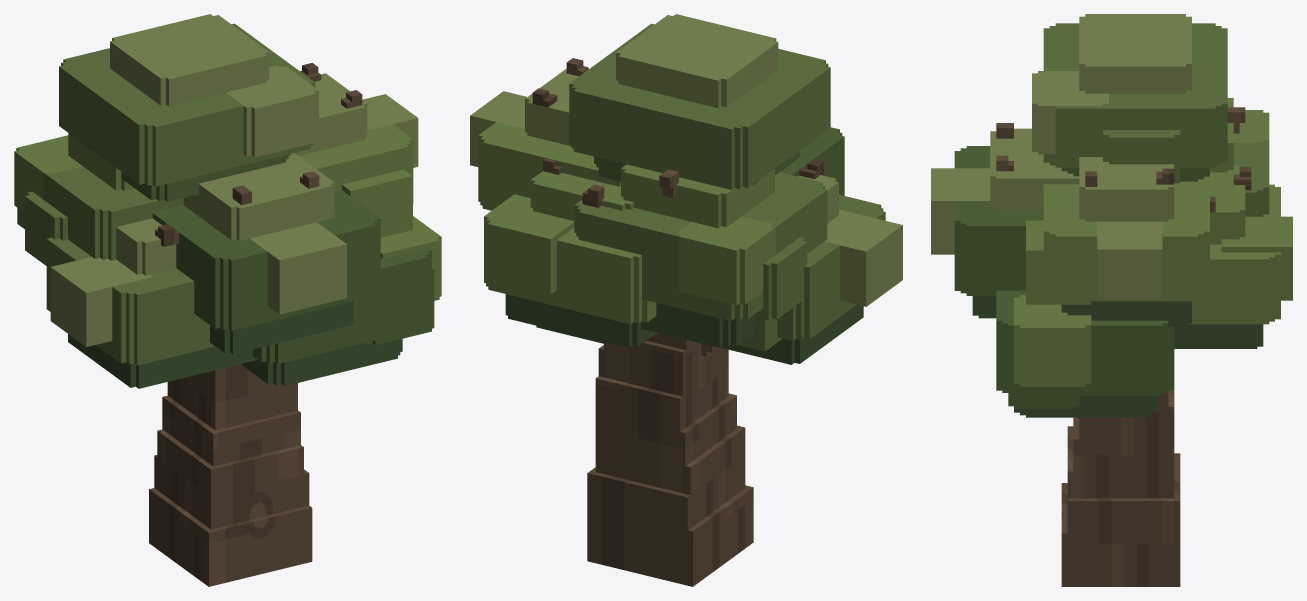
Rendered from oak_ancient_spring_2.glb.
3 renders of one model, left to right at view 1: azimuth 30°, elevation 25°; view 2: azimuth 150°, elevation 25°; view 3: azimuth 270°, elevation 25°, orthographic. The views are drawn at different scales.
Parts seen in each view (by area): view 1: VoxelVisual; view 2: VoxelVisual; view 3: VoxelVisual.
Boxes of the visible parts, <box> form: VoxelVisual: <box>14,14,441,586</box>; VoxelVisual: <box>470,14,902,586</box>; VoxelVisual: <box>931,14,1292,586</box>.
Size of what is drawn, in the model's own units: 17.5 by 23.5 by 15.25.
